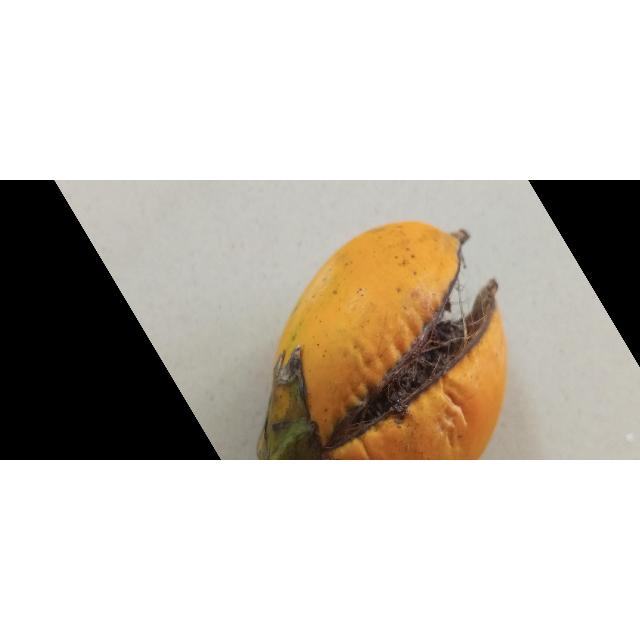damaged: (257, 222, 506, 461)
